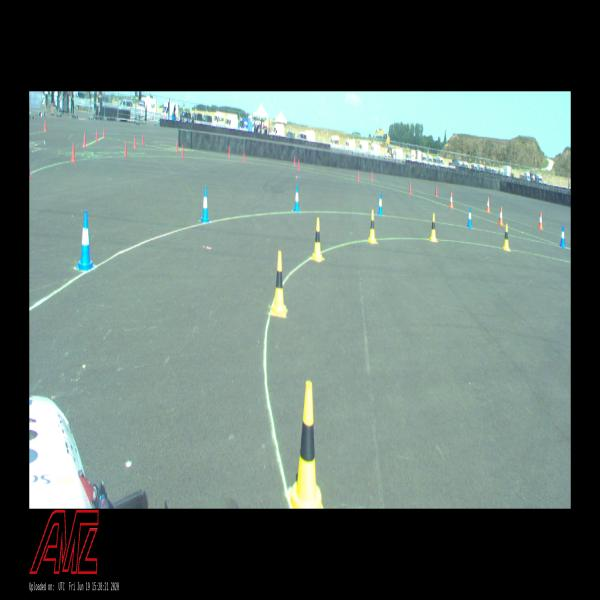blue_cone: (76, 211, 94, 271), (200, 186, 211, 222), (294, 186, 300, 212), (560, 226, 566, 248), (467, 206, 472, 228), (378, 193, 382, 215)
orange_cone: (538, 212, 543, 231), (498, 207, 503, 226), (486, 197, 490, 211), (450, 192, 453, 208)
unknown_cone: (71, 142, 75, 163), (124, 142, 128, 157), (83, 132, 86, 147), (181, 145, 184, 157), (435, 185, 438, 197), (409, 183, 412, 195), (228, 146, 231, 157), (96, 129, 98, 142), (134, 136, 136, 148), (44, 120, 46, 132), (176, 140, 178, 152), (357, 170, 359, 181), (142, 134, 144, 145), (298, 159, 300, 170), (103, 128, 105, 138), (243, 152, 245, 162), (294, 156, 296, 166), (371, 170, 373, 180)
yellow_cone: (289, 381, 324, 508), (271, 251, 287, 318), (312, 218, 324, 262), (369, 210, 378, 244), (429, 214, 437, 242), (503, 224, 510, 250)
